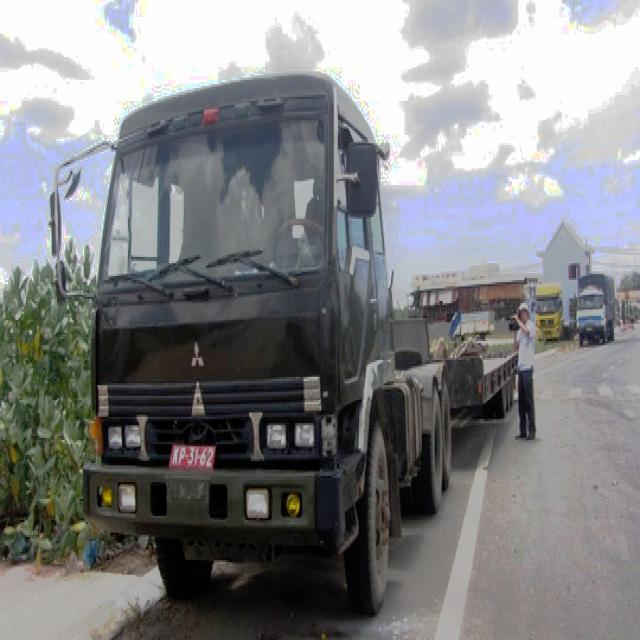license_plate: (171, 446, 216, 471)
